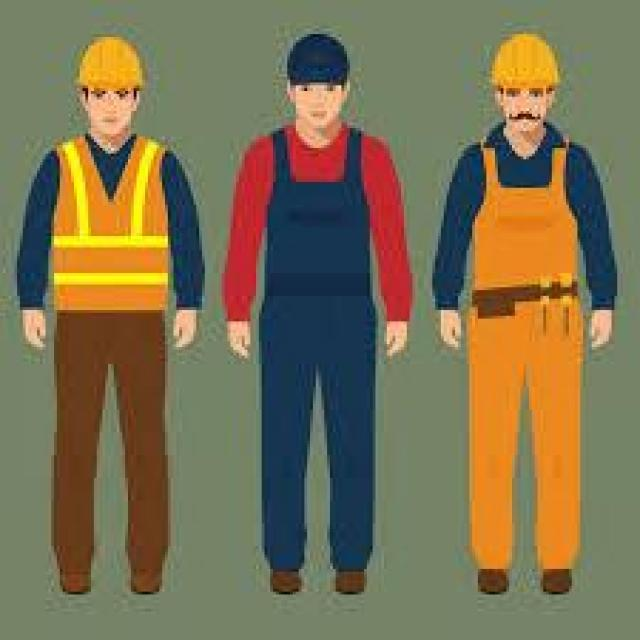Reflective-Jacket: (37, 134, 182, 327)
Safety-Helmet: (481, 26, 572, 100), (68, 28, 156, 102), (268, 25, 362, 94)
